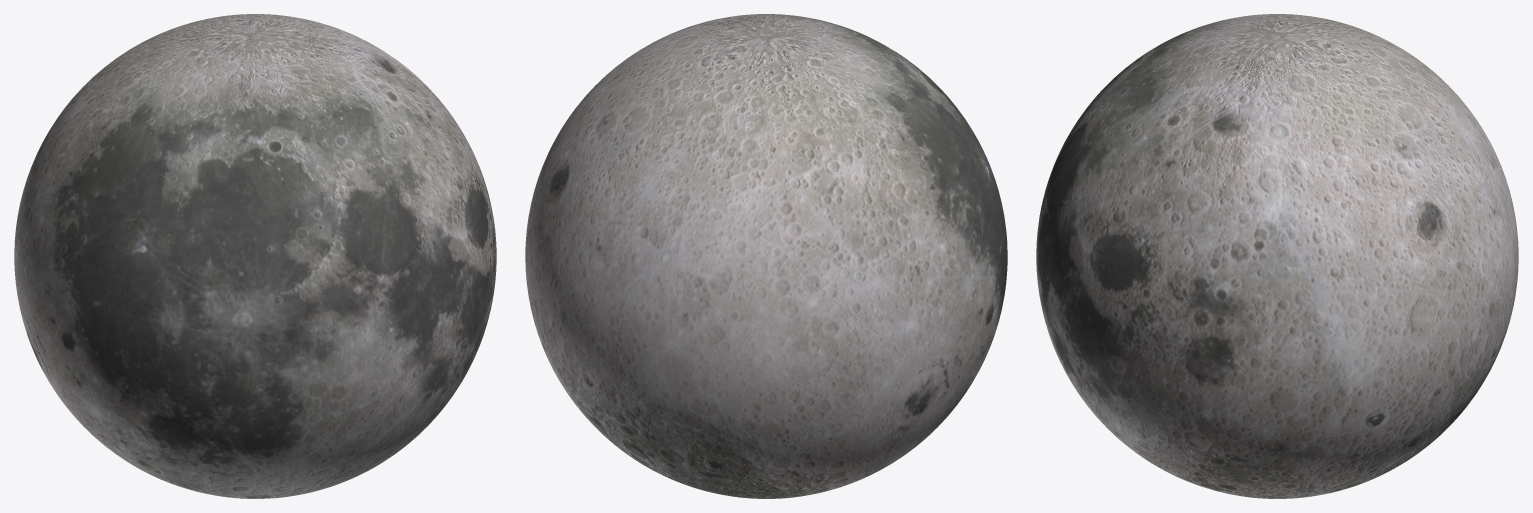
File: moon.glb
The picture shows the model from 3 angles, left to right: view 1: azimuth 30°, elevation 25°; view 2: azimuth 150°, elevation 25°; view 3: azimuth 270°, elevation 25°; orthographic projection.
Parts seen in each view (by area): view 1: moon_1; view 2: moon_1; view 3: moon_1.
Boxes of the visible parts, x1=… form: moon_1: x1=14, y1=14, x2=496, y2=498; moon_1: x1=525, y1=14, x2=1007, y2=498; moon_1: x1=1036, y1=14, x2=1518, y2=498.
Size of the model in its own units: 37.89 by 38.29 by 37.89.
1 material, 1 textured.
